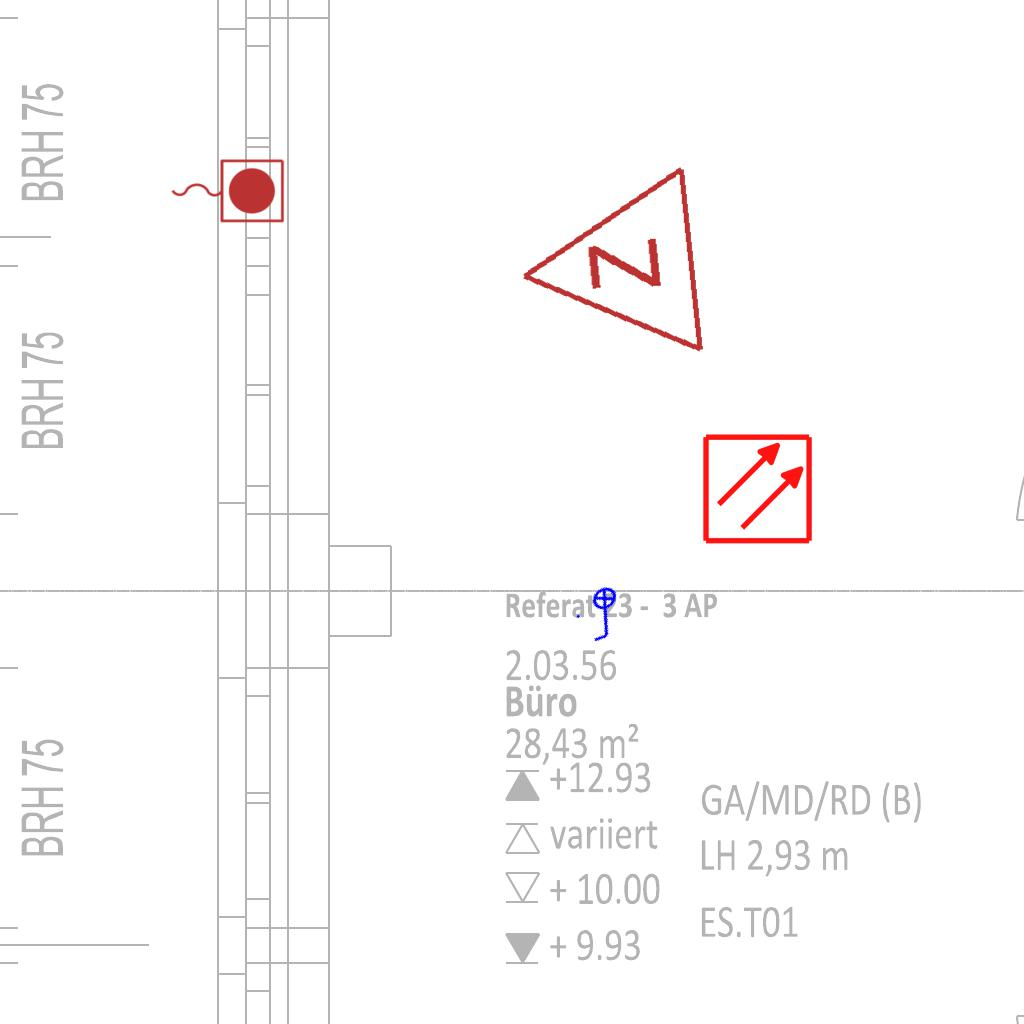Ausschalter_beleuchtet: (568, 578, 642, 650)
RMO_Rauchmelder_optischer: (701, 432, 814, 545)
Zimmersignalleuchte: (499, 162, 719, 378)
Zugtaster: (166, 154, 288, 226)
